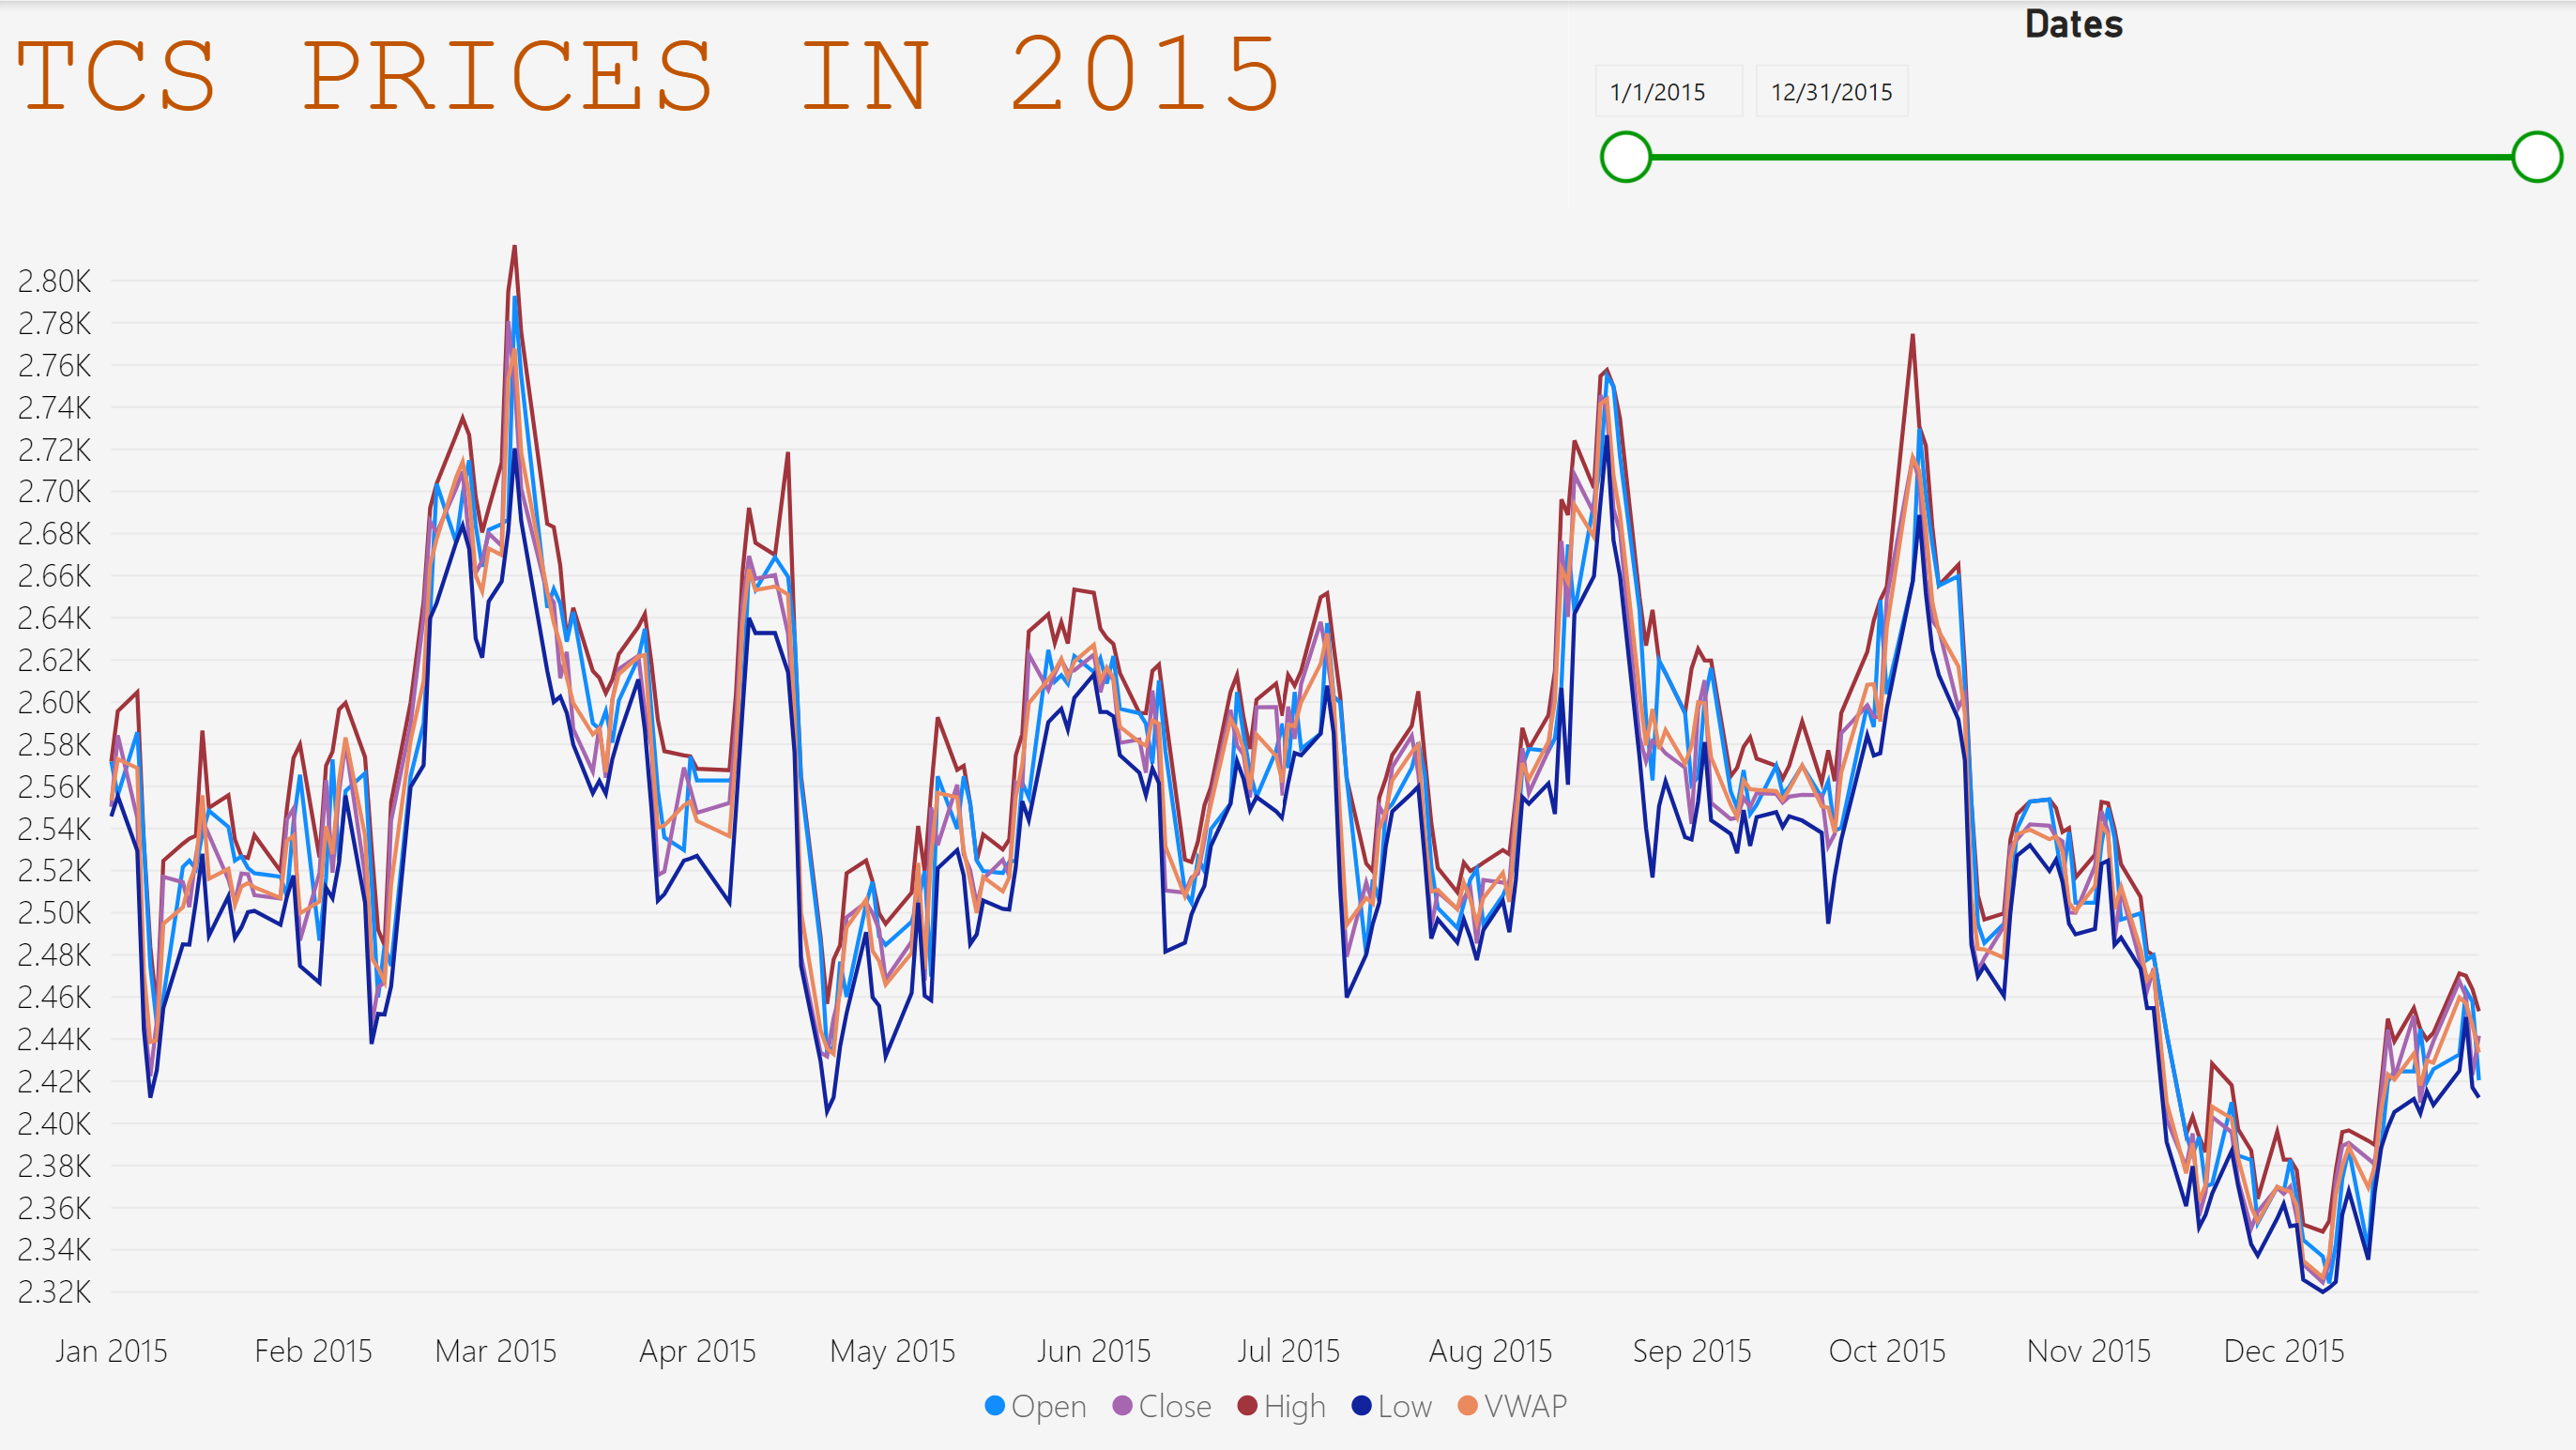

This screenshot's page, from the dashboard's own definition file:
{"tool":"powerbi","page":{"name":"TCS","canvas":[1280,720],"ordinal":1},"visuals":[{"type":"slicer","title":"Dates","fields":{"Values":["Calendar.Date"]},"box":[778.5,0,501.5,103.6],"z":0},{"type":"textbox","box":[0,0,778.5,103.6],"z":1000},{"type":"powerKPI462CE5C2666F4EC8A8BDD7E5587320A3","fields":{"Axis":["Calendar.Date"],"Values":["Sum(tcs_stock.Open)","Sum(tcs_stock.Close)","Sum(tcs_stock.High)","Sum(tcs_stock.Low)","Sum(tcs_stock.VWAP)"]},"box":[0,103.6,1280,616.7],"z":2000}]}

Visuals, with their boxes in screenshot pixels (x1, y1, x2, y2), scaled from the page's 1280x720 canvas onto the 2576x1450 screenshot:
"Dates" slicer: 1567/0/2575/208
textbox: 0/0/1567/208
powerKPI462CE5C2666F4EC8A8BDD7E5587320A3 - Calendar.Date x Sum(tcs_stock.Open): 0/208/2575/1449
